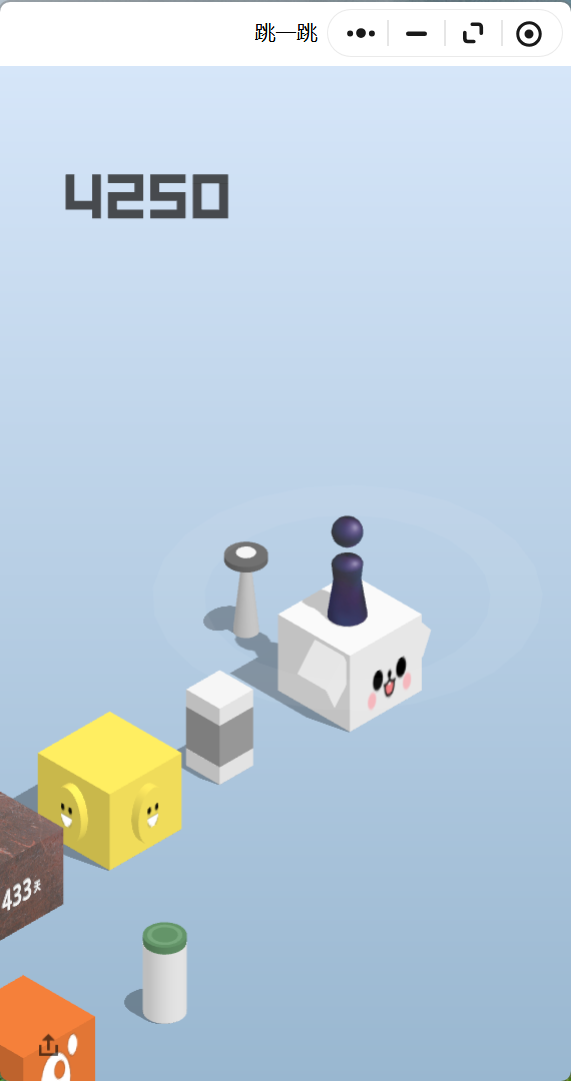piece: (332, 516, 363, 621)
target: (224, 541, 268, 568)
